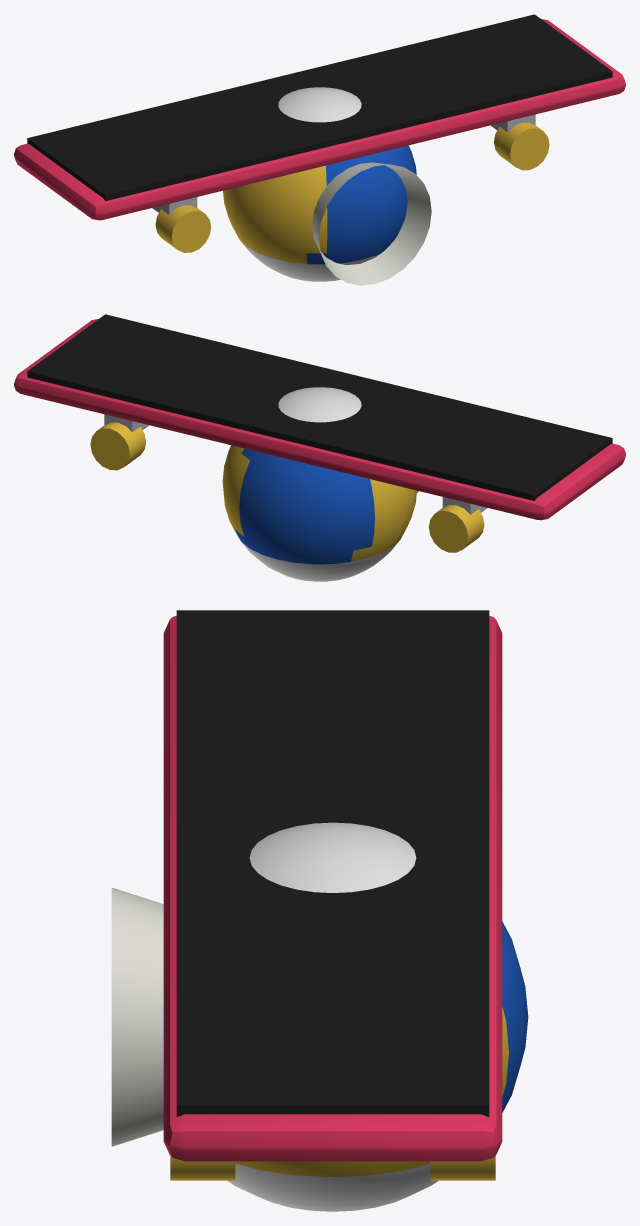
The model's file is props-D1oJu_zF.glb.
3 views of the same model, one above another, from view 1: azimuth 30°, elevation 25°; view 2: azimuth 150°, elevation 25°; view 3: azimuth 270°, elevation 25° (orthographic). The views are drawn at different scales.
Visible parts, largest first — view 1: board, ball_volley, shuttle; view 2: board, ball_volley; view 3: board, ball_volley, shuttle.
Part boxes in pixels (left/top/right/bottom): board: left=14, top=14, right=625, bottom=252; ball_volley: left=223, top=87, right=416, bottom=281; shuttle: left=312, top=162, right=431, bottom=285; board: left=14, top=314, right=625, bottom=552; ball_volley: left=222, top=387, right=416, bottom=581; board: left=163, top=610, right=502, bottom=1180; ball_volley: left=227, top=822, right=528, bottom=1211; shuttle: left=111, top=887, right=163, bottom=1146.
Bounding box in the file's own units: 0.95 × 0.3 × 0.32.
